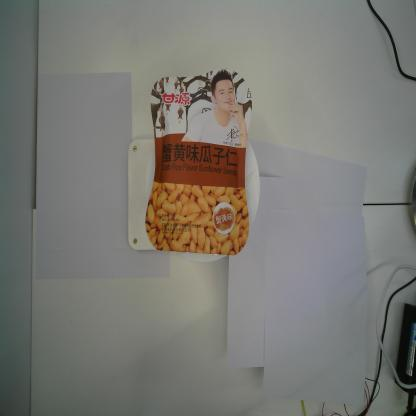Dried Fruit: (143, 68, 253, 256)
